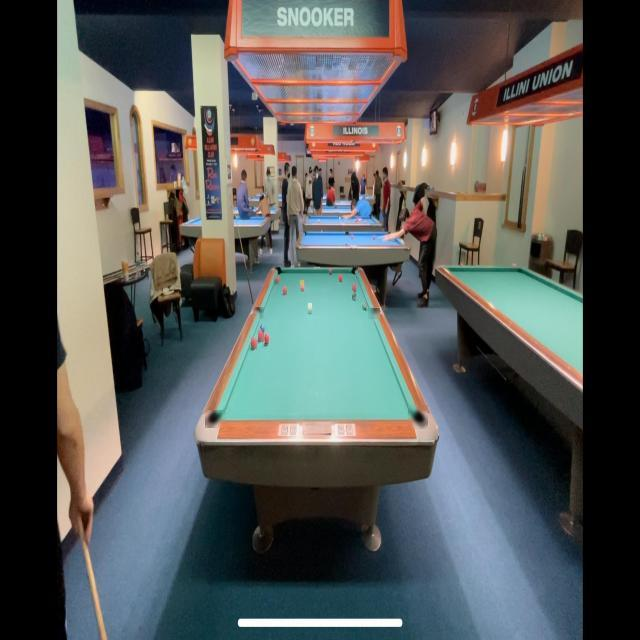Ball: (264, 334, 270, 346), (251, 337, 257, 349), (258, 330, 264, 342), (274, 275, 280, 285), (362, 300, 367, 310), (260, 323, 264, 333), (308, 304, 312, 314), (283, 286, 287, 295), (352, 292, 356, 300), (300, 280, 304, 288), (339, 274, 342, 282), (352, 284, 356, 290), (329, 268, 332, 275), (302, 283, 304, 290)
Pocket: (408, 405, 428, 429), (206, 410, 226, 428), (368, 308, 381, 319), (253, 308, 264, 320), (274, 264, 282, 275), (352, 266, 359, 274)
